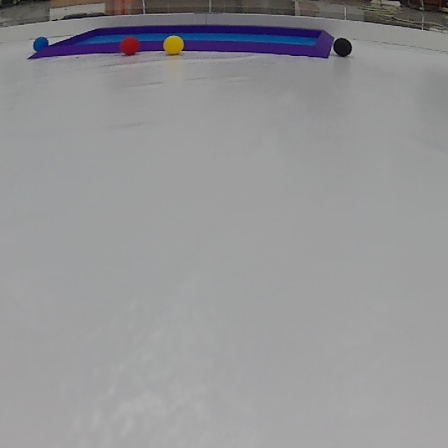black: (334, 34, 354, 56)
blue: (35, 36, 48, 54)
blue_aim: (31, 23, 334, 70)
red: (118, 38, 141, 55)
yellow: (161, 36, 188, 55)
